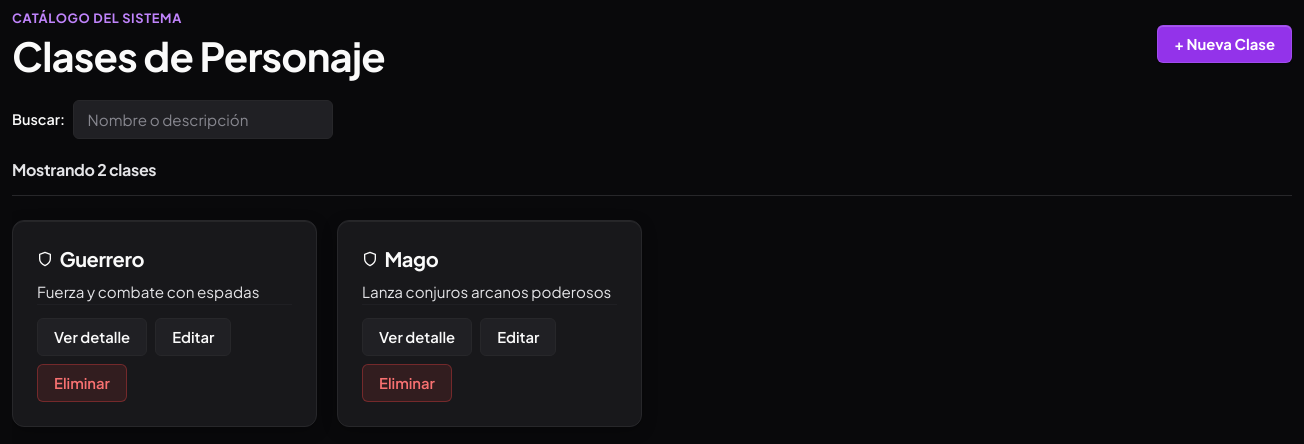
ClasesPage › permite filtrar clases por texto de búsqueda
This screenshot has width=1304, height=444.
Check: the heading "Guerrero" is shown, box [37,246,144,271]
In the search field with placeholder "Nombre o descripción": (203, 120) [73,100,333,139], type "conjuros"
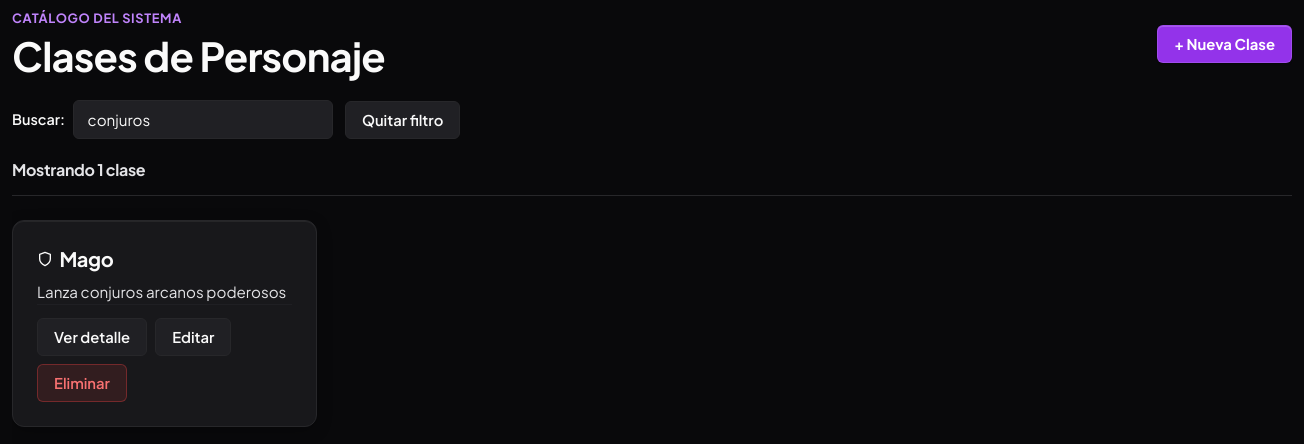
Check: the heading "Mago" is shown, box [37,246,113,271]
Check: the heading "Guerrero" is gone
Click the button "Quitar filtro": (403, 120) [345,101,460,139]
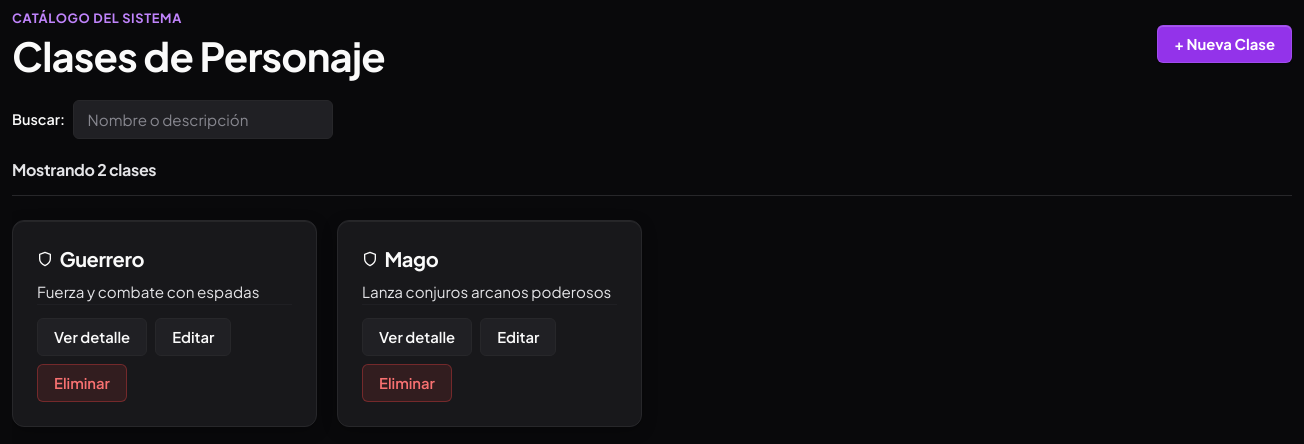
Check: the heading "Guerrero" is shown, box [37,246,144,271]
